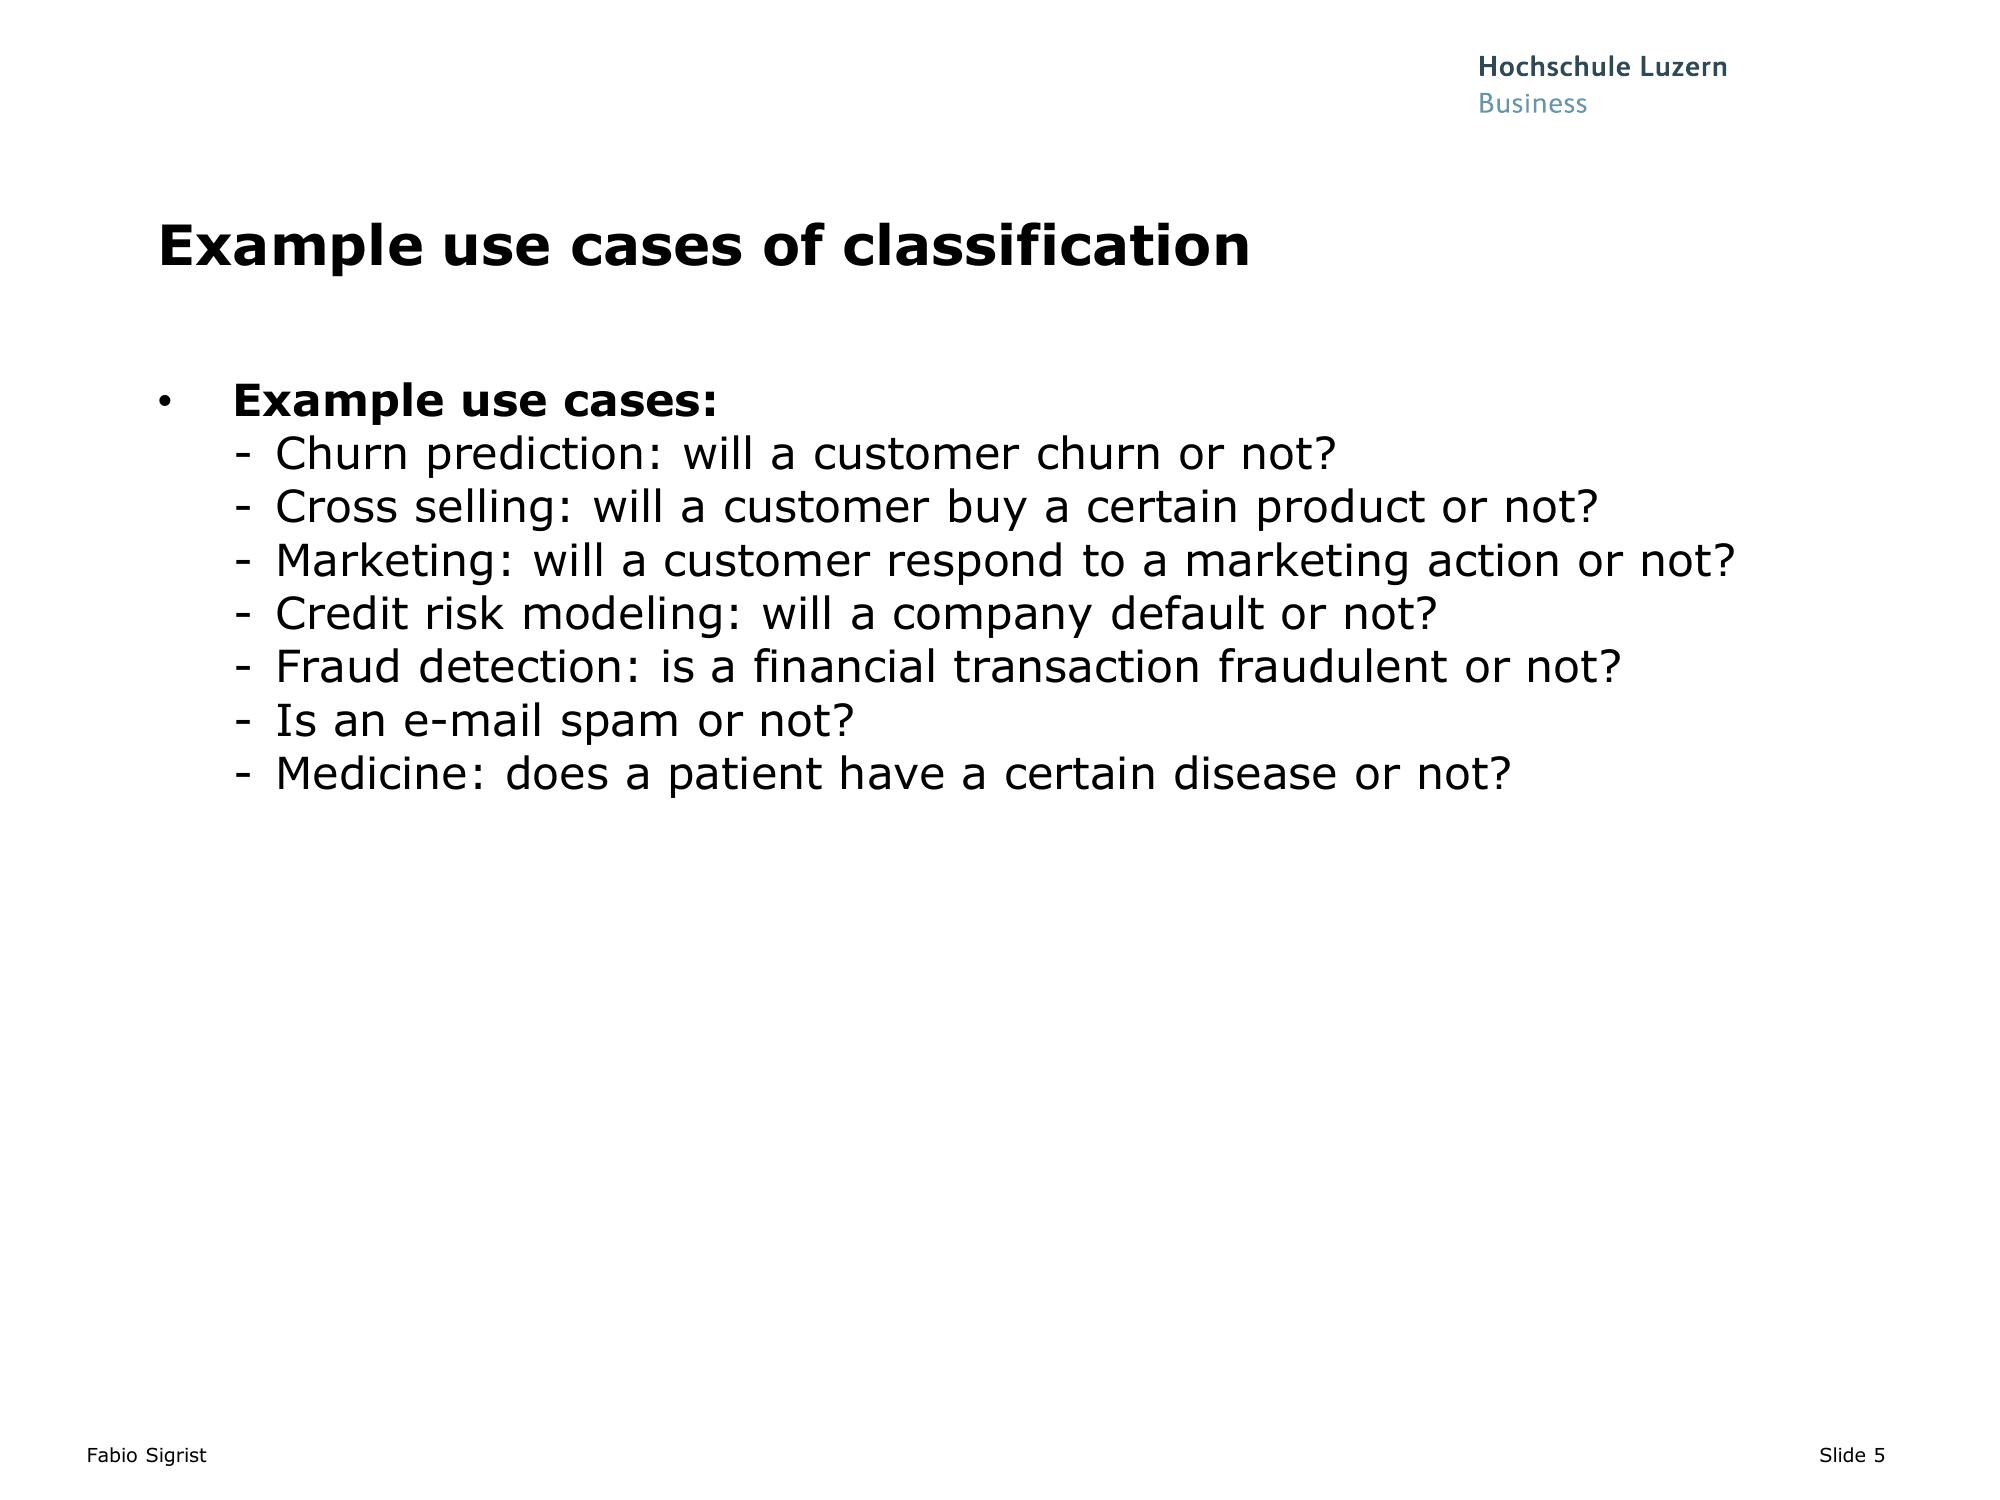Title: (142, 211, 1258, 291)
